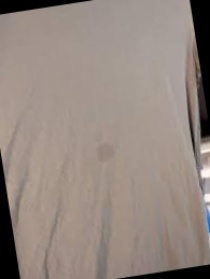oil: (84, 130, 123, 169)
